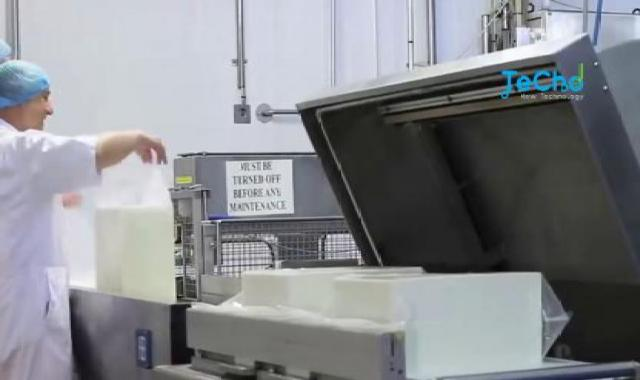hairnet: (0, 59, 62, 122)
